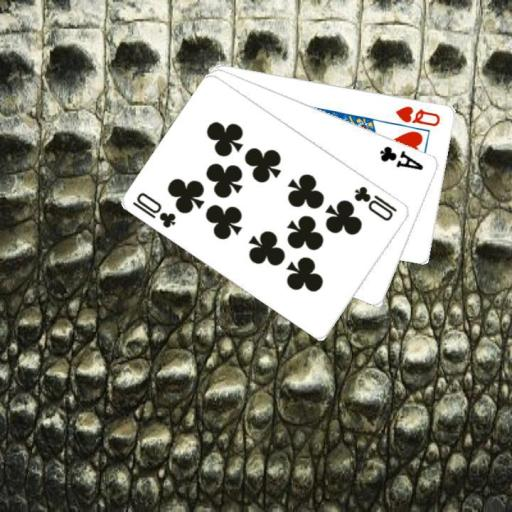10C: (130, 189, 179, 230), (351, 182, 399, 223)
AC: (377, 142, 425, 172)
QH: (393, 103, 443, 128)
